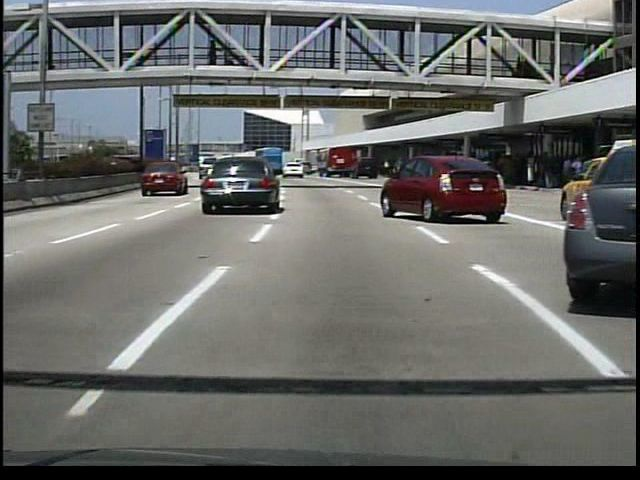person: (208, 40, 224, 68)
